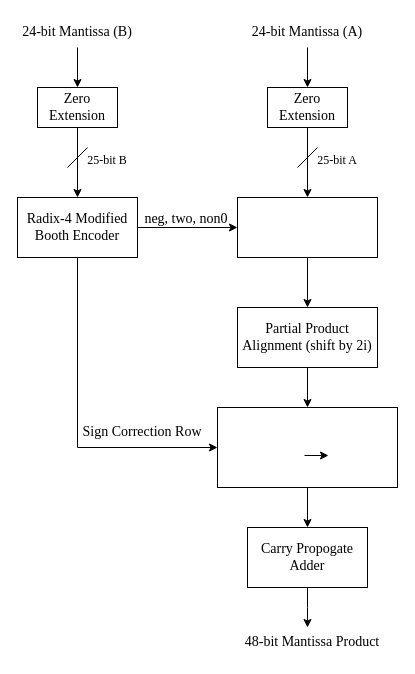
Some shapes in this 415 by 674 pixel diagram are drawn without their labels. The centre of each missing label's shape, as x and y in pixels:
Dadda Tree Reduction (13+1 rows 2 rows): [307,447]
Partial Product Generator: [307,227]
